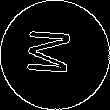M_E: (29, 30, 81, 80)
